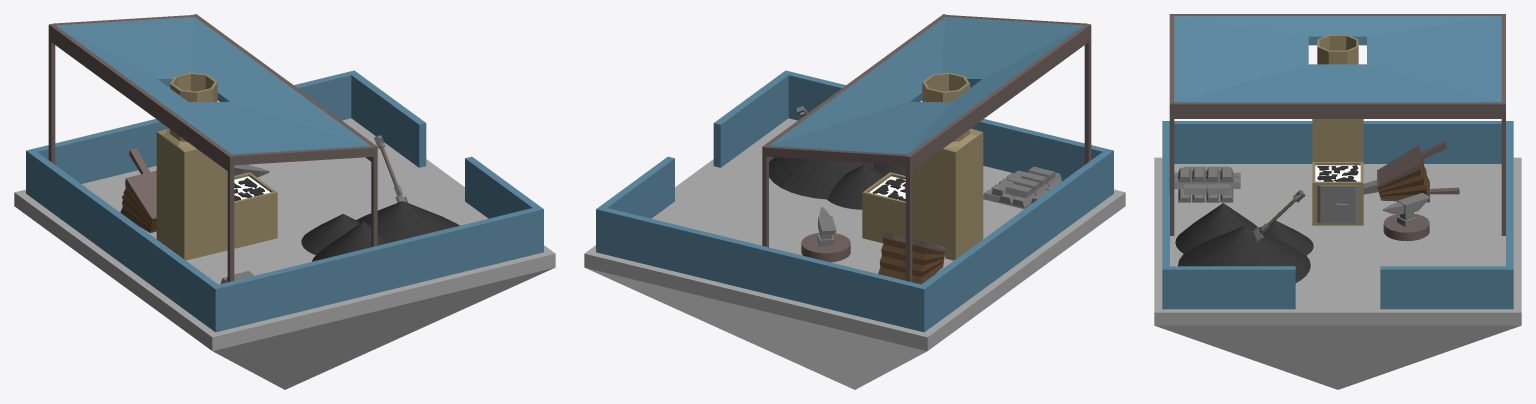
Rendered from Building Forge T1.fbx.
3 views of the same model, side by side, from view 1: azimuth 30°, elevation 25°; view 2: azimuth 150°, elevation 25°; view 3: azimuth 270°, elevation 25° (orthographic). The views are drawn at different scales.
Visible parts, largest first — view 1: Forge T1; view 2: Forge T1; view 3: Forge T1.
Boxes of the visible parts, left/top/right/bottom form: Forge T1: left=14, top=14, right=555, bottom=389; Forge T1: left=584, top=14, right=1125, bottom=389; Forge T1: left=1154, top=14, right=1521, bottom=389.
Bounding box in the file's own units: 1599 × 1489 × 1599.
